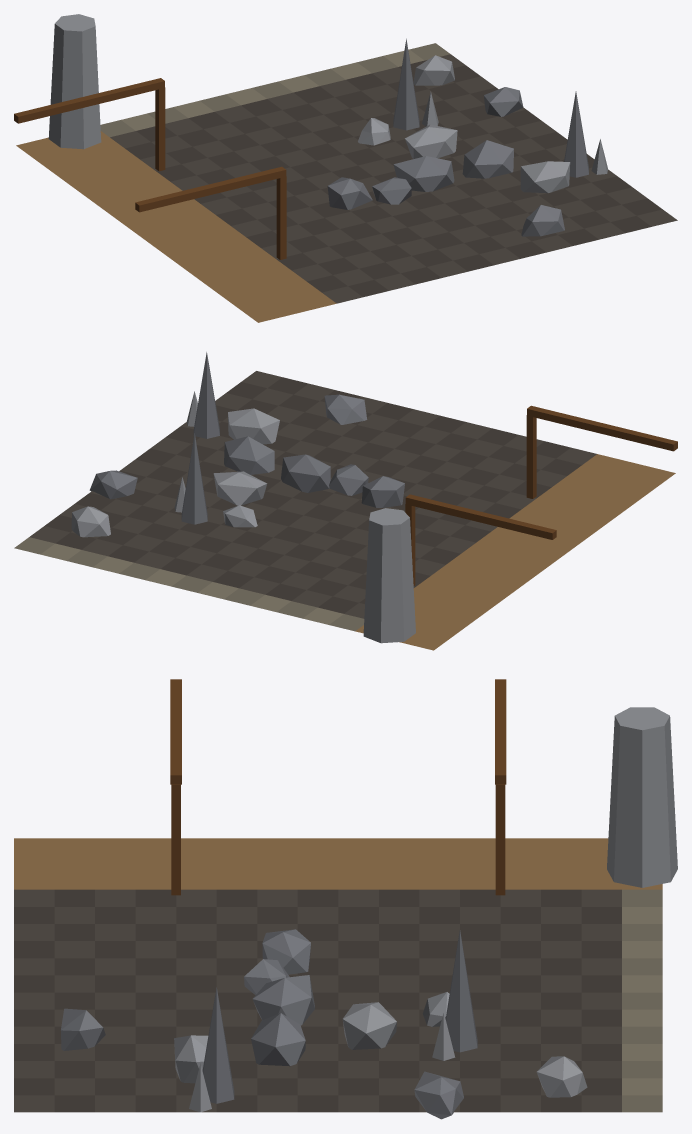
Rendered from chunk_6_18.glb.
3 views of the same model, one above another, from view 1: azimuth 30°, elevation 25°; view 2: azimuth 150°, elevation 25°; view 3: azimuth 270°, elevation 25° (orthographic). The views are drawn at different scales.
Parts seen in each view (by area): view 1: chunk_6_18; view 2: chunk_6_18; view 3: chunk_6_18.
Part boxes in pixels (left/top/right/bottom): chunk_6_18: left=14, top=14, right=677, bottom=322; chunk_6_18: left=14, top=352, right=677, bottom=650; chunk_6_18: left=14, top=679, right=677, bottom=1119.
Size of the model in its own units: 18.42 by 4.81 by 16.38.
